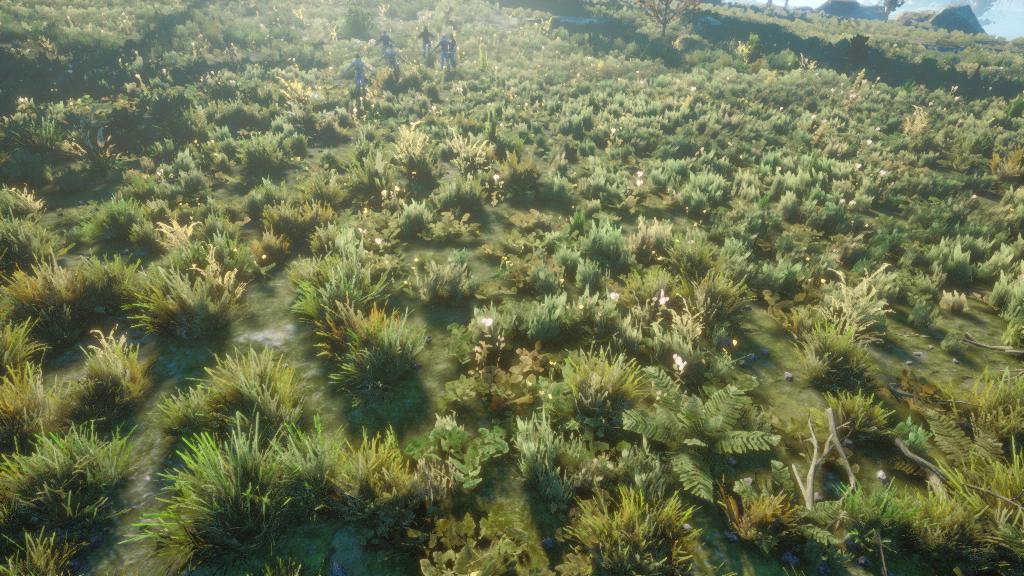human: (339, 47, 381, 110), (436, 30, 470, 75), (373, 22, 406, 66), (414, 17, 439, 69)
